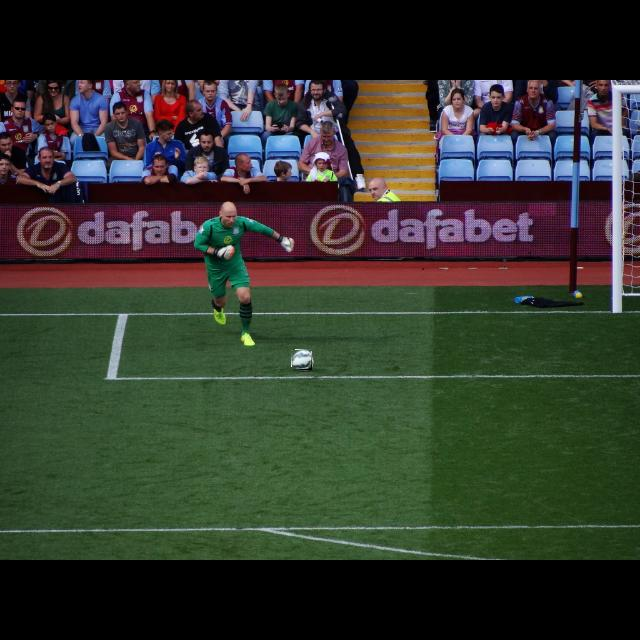Football: (292, 350, 312, 370)
